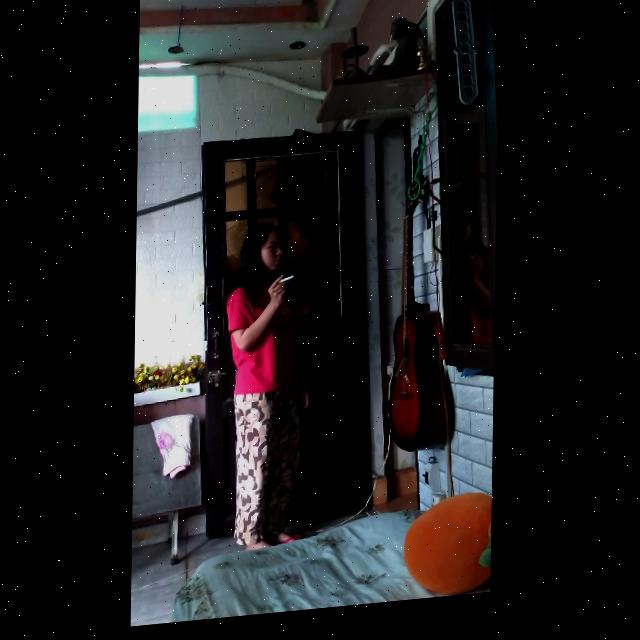cigarette: (279, 282, 295, 290)
